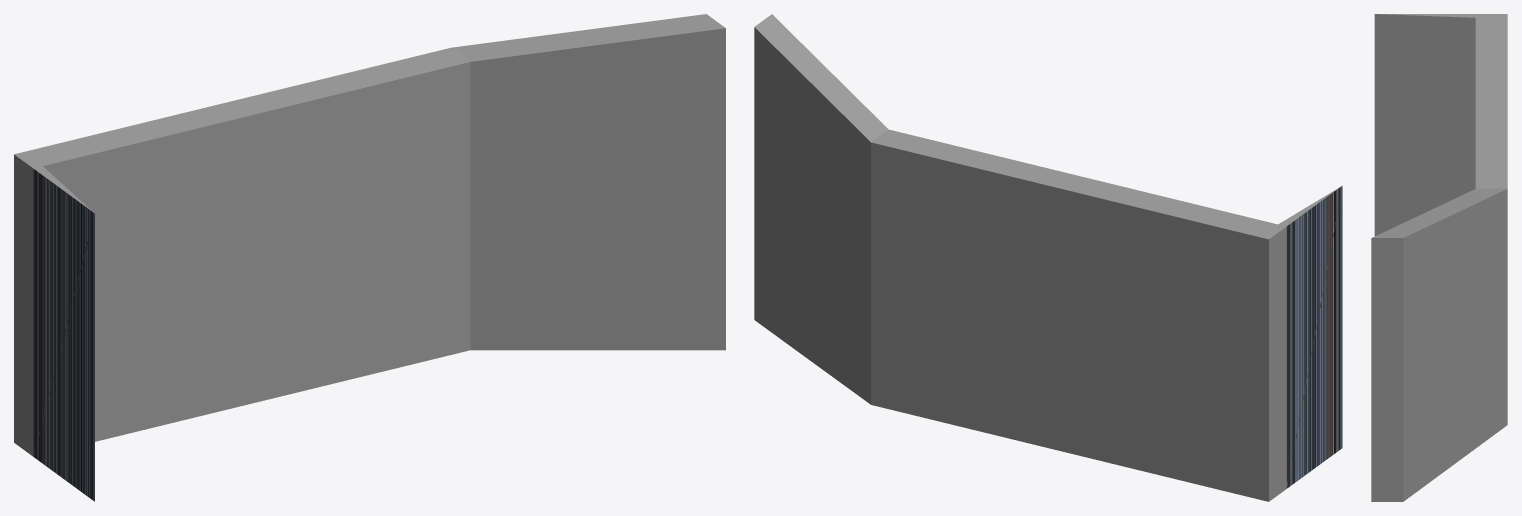
The model's file is someShit10.obj.
The picture shows the model from 3 angles, left to right: view 1: azimuth 30°, elevation 25°; view 2: azimuth 150°, elevation 25°; view 3: azimuth 270°, elevation 25°; orthographic projection. The views are drawn at different scales.
Visible parts, largest first — view 1: Plane.010_Plane.011; view 2: Plane.010_Plane.011; view 3: Plane.010_Plane.011.
Boxes of the visible parts, <box> form: Plane.010_Plane.011: <box>14,14,725,501</box>; Plane.010_Plane.011: <box>754,14,1342,501</box>; Plane.010_Plane.011: <box>1371,14,1507,501</box>.
Size of the model in its own units: 590 by 288 by 135.
2 materials, 1 textured.
